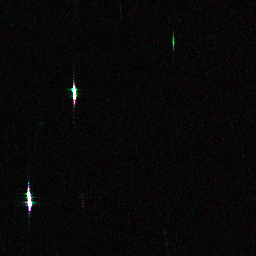ship: (24, 188, 34, 210), (70, 84, 77, 101)
